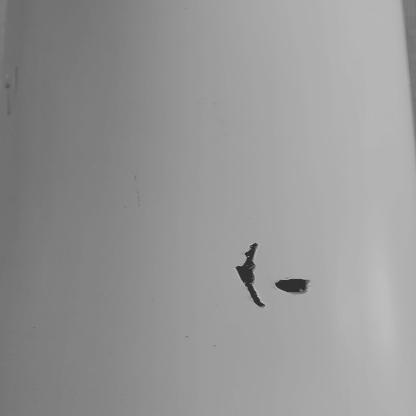kongdong: (226, 244, 269, 310), (274, 276, 310, 296)
